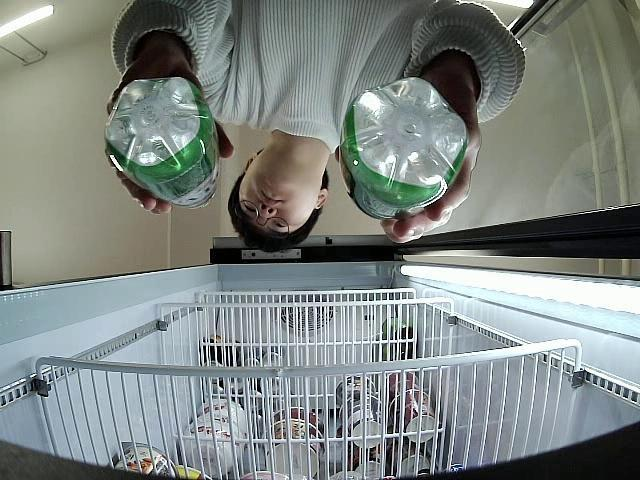18_trevi: (342, 77, 469, 221), (105, 78, 220, 208)
